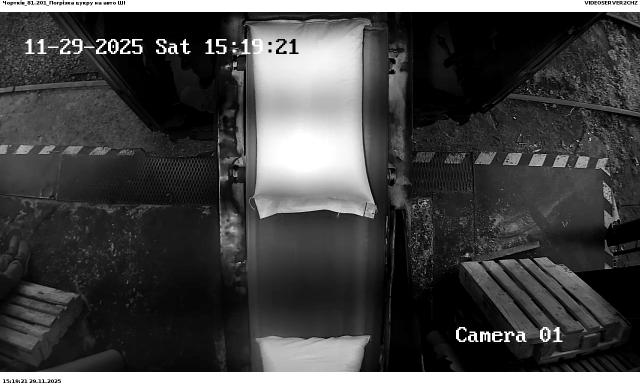bag: (246, 18, 378, 221), (257, 336, 372, 371)
